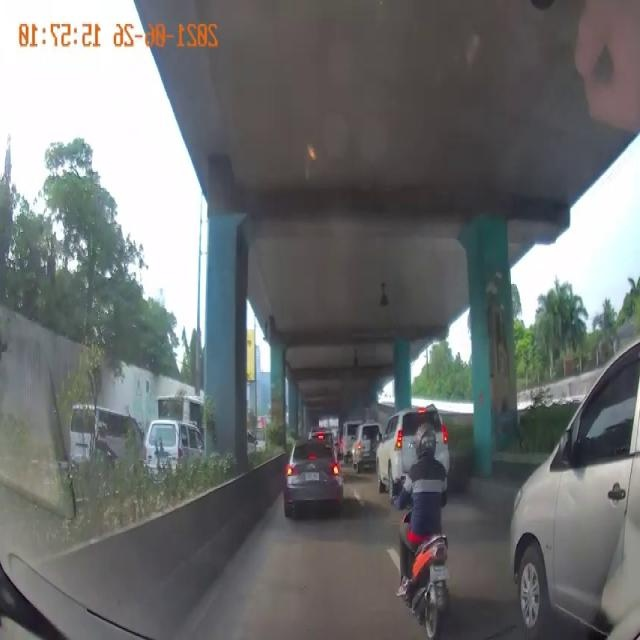car: (510, 340, 640, 630), (374, 402, 449, 495), (64, 412, 142, 486), (283, 431, 340, 524), (142, 425, 202, 493)
motorcycle: (393, 423, 446, 633)
